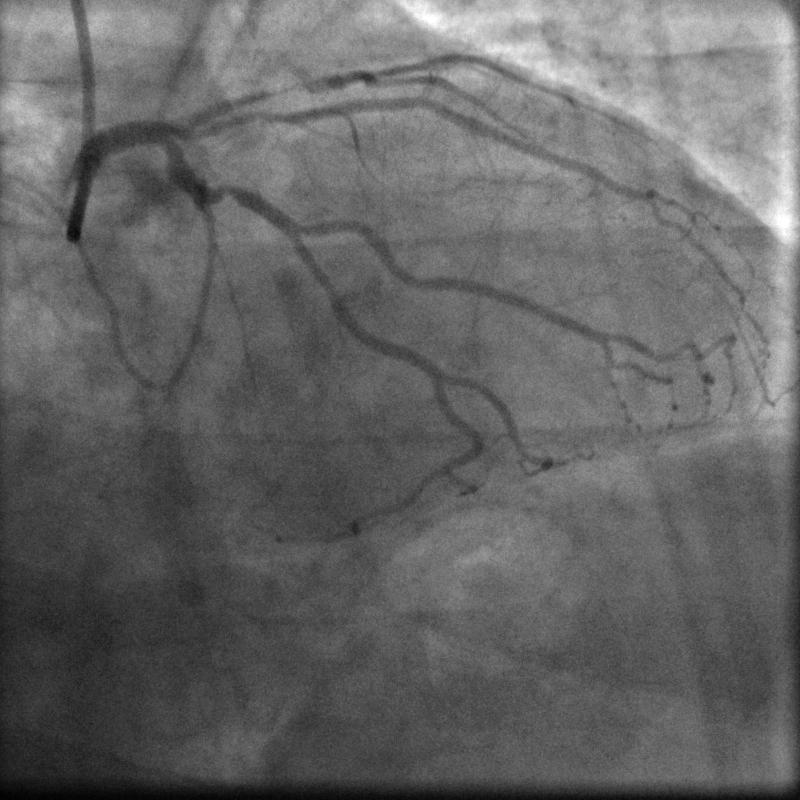Stenosis: (214, 181, 243, 206)
